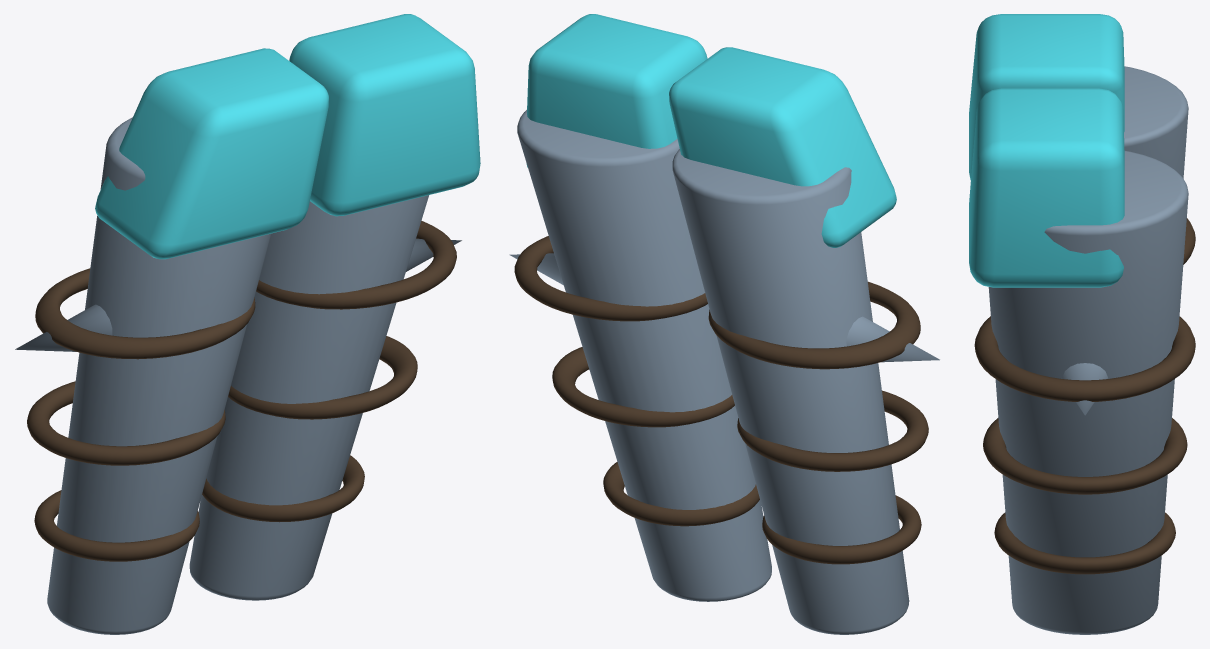
The model's file is greaves_v7.glb.
3 renders of one model, left to right at view 1: azimuth 30°, elevation 25°; view 2: azimuth 150°, elevation 25°; view 3: azimuth 270°, elevation 25°, orthographic. The views are drawn at different scales.
Visible parts, largest first — view 1: GREAVE_PRIMARY, GREAVE_PRIMARY.001, KNEE_ACCENT, KNEE_ACCENT.001, GREAVE_BAND_SECONDARY.002, GREAVE_BAND_SECONDARY.001, GREAVE_BAND_SECONDARY.005, GREAVE_BAND_SECONDARY.004, GREAVE_BAND_SECONDARY, GREAVE_BAND_SECONDARY.003, BRUTAL_SPIKE_PRIMARY; view 2: GREAVE_PRIMARY, GREAVE_PRIMARY.001, KNEE_ACCENT, KNEE_ACCENT.001, GREAVE_BAND_SECONDARY.002, GREAVE_BAND_SECONDARY.001, GREAVE_BAND_SECONDARY.005, GREAVE_BAND_SECONDARY.004, GREAVE_BAND_SECONDARY, GREAVE_BAND_SECONDARY.003, BRUTAL_SPIKE_PRIMARY; view 3: GREAVE_PRIMARY.001, KNEE_ACCENT.001, KNEE_ACCENT, GREAVE_BAND_SECONDARY.005, GREAVE_PRIMARY, GREAVE_BAND_SECONDARY.004, GREAVE_BAND_SECONDARY.003, BRUTAL_SPIKE_PRIMARY.001, GREAVE_BAND_SECONDARY.002.
Part boxes in pixels (x1,y1,x2,y2): GREAVE_PRIMARY: (47,117,270,634); GREAVE_PRIMARY.001: (189,195,428,600); KNEE_ACCENT: (95,48,328,259); KNEE_ACCENT.001: (289,14,480,216); GREAVE_BAND_SECONDARY.002: (35,268,255,359); GREAVE_BAND_SECONDARY.001: (27,381,225,465); GREAVE_BAND_SECONDARY.005: (256,221,456,309); GREAVE_BAND_SECONDARY.004: (228,336,417,419); GREAVE_BAND_SECONDARY: (34,490,199,561); GREAVE_BAND_SECONDARY.003: (202,455,364,522); BRUTAL_SPIKE_PRIMARY: (15,304,112,351); GREAVE_PRIMARY: (672,149,909,634); GREAVE_PRIMARY.001: (517,110,771,601); KNEE_ACCENT: (669,47,896,247); KNEE_ACCENT.001: (526,14,707,167); GREAVE_BAND_SECONDARY.002: (708,281,920,369); GREAVE_BAND_SECONDARY.001: (737,390,928,471); GREAVE_BAND_SECONDARY.005: (514,236,707,321); GREAVE_BAND_SECONDARY.004: (552,347,734,427); GREAVE_BAND_SECONDARY: (762,495,921,564); GREAVE_BAND_SECONDARY.003: (603,462,759,526); BRUTAL_SPIKE_PRIMARY: (846,316,939,362); GREAVE_PRIMARY.001: (988,151,1188,634); KNEE_ACCENT.001: (969,88,1124,287); KNEE_ACCENT: (969,14,1124,180); GREAVE_BAND_SECONDARY.005: (974,316,1195,401); GREAVE_PRIMARY: (1124,66,1188,178); GREAVE_BAND_SECONDARY.004: (983,418,1187,494); GREAVE_BAND_SECONDARY.003: (994,512,1175,574); BRUTAL_SPIKE_PRIMARY.001: (1062,363,1107,415); GREAVE_BAND_SECONDARY.002: (1183,218,1195,264).
Bounding box in the file's own units: 1.82 × 2 × 0.7369.
